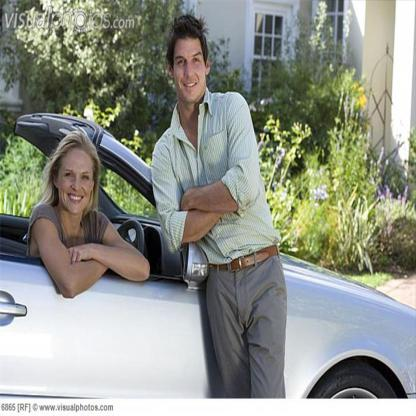face: (60, 150, 94, 211), (175, 38, 203, 98)
